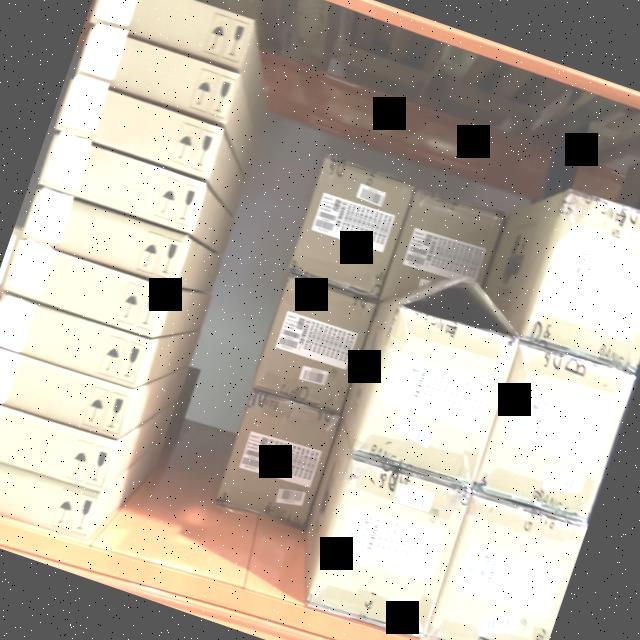box: (309, 454, 472, 636), (474, 342, 636, 524), (354, 310, 518, 488), (427, 494, 585, 640), (522, 192, 640, 367), (287, 158, 413, 298), (252, 274, 376, 412), (56, 76, 222, 178), (216, 389, 337, 526), (39, 132, 204, 232), (76, 24, 240, 123), (5, 238, 167, 336), (22, 190, 185, 284), (0, 291, 148, 389), (0, 345, 131, 439), (91, 0, 254, 69), (0, 399, 114, 489), (0, 452, 98, 539)
